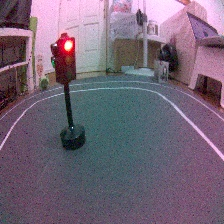red: (49, 32, 89, 152)
